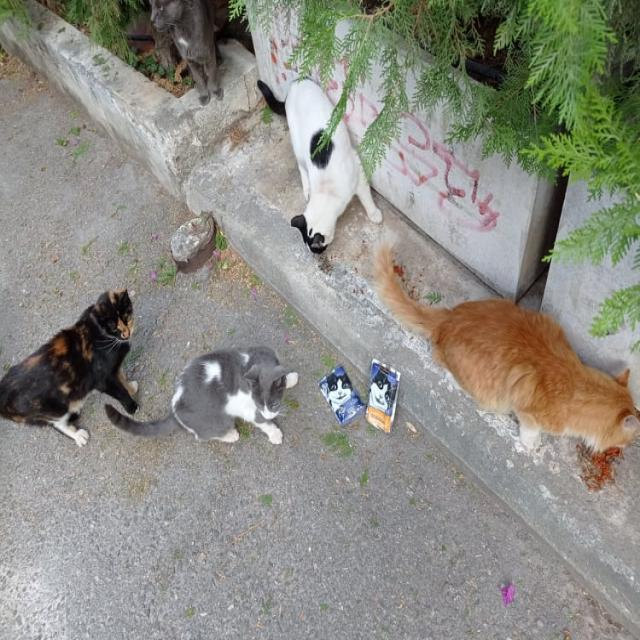cat: (374, 242, 640, 452), (0, 289, 138, 445), (258, 79, 381, 253), (105, 346, 299, 445), (151, 0, 224, 105)
